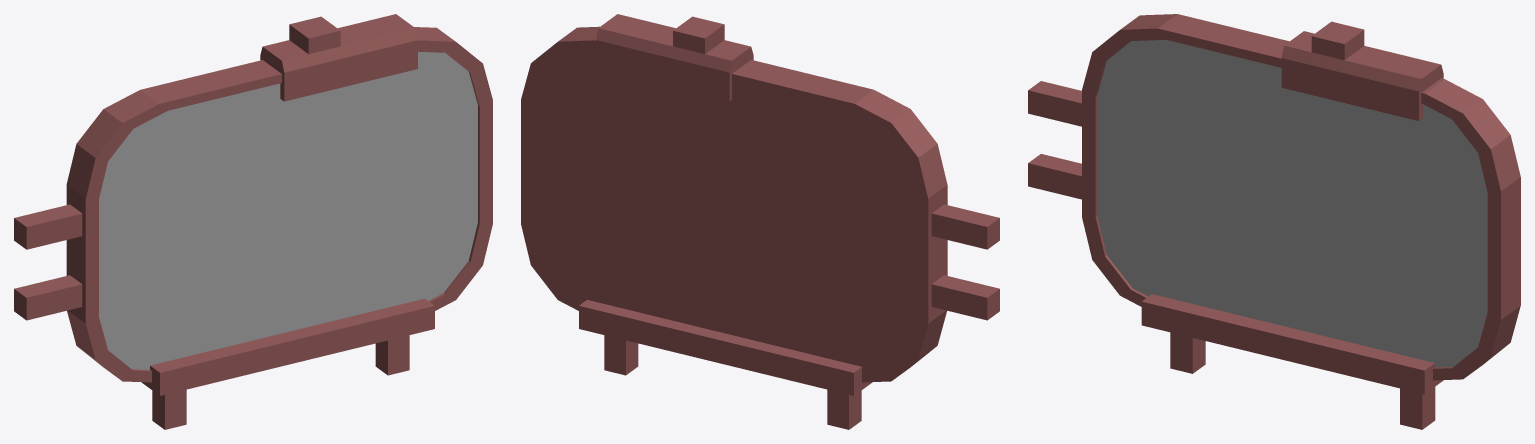
File: Billboard.fbx
The picture shows the model from 3 angles, left to right: view 1: azimuth 30°, elevation 25°; view 2: azimuth 150°, elevation 25°; view 3: azimuth 330°, elevation 25°; orthographic projection. The views are drawn at different scales.
Visible parts, largest first — view 1: polySurface2, polySurface1, pCube3, pCube2, TopSupports, BottomSupports; view 2: polySurface1, pCube2, pCube3, TopSupports, BottomSupports; view 3: polySurface2, polySurface1, pCube3, pCube2, TopSupports, BottomSupports.
Part boxes in pixels (x1,y1,x2,y2): polySurface2: (99,51,477,369); polySurface1: (66,27,492,382); pCube3: (142,298,434,395); pCube2: (260,14,417,101); TopSupports: (14,204,82,320); BottomSupports: (152,335,409,429); polySurface1: (521,26,947,382); pCube2: (596,14,753,101); pCube3: (579,300,872,395); TopSupports: (931,204,999,320); BottomSupports: (604,335,861,429); polySurface2: (1097,40,1487,367); polySurface1: (1082,14,1520,380); pCube3: (1141,294,1443,394); pCube2: (1281,21,1443,120); TopSupports: (1028,81,1081,199); BottomSupports: (1170,332,1435,429).
Bounding box in the file's own units: 406 × 301 × 54.23.
